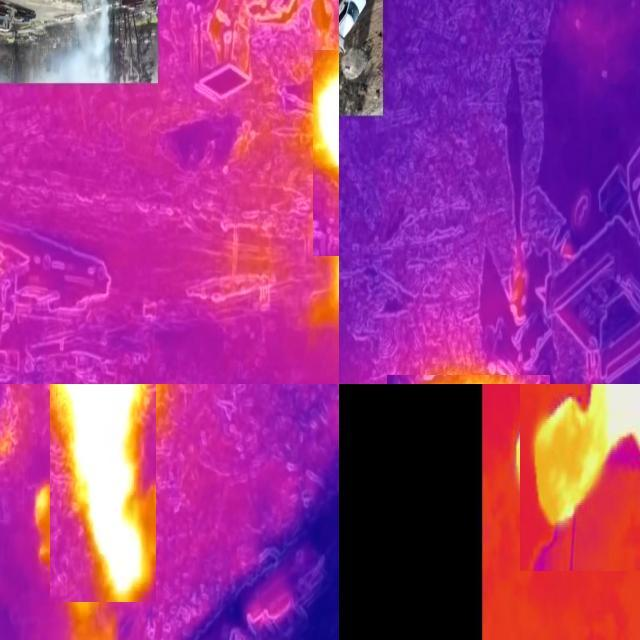fire: (50, 385, 156, 602), (528, 385, 640, 537), (307, 59, 343, 179)
